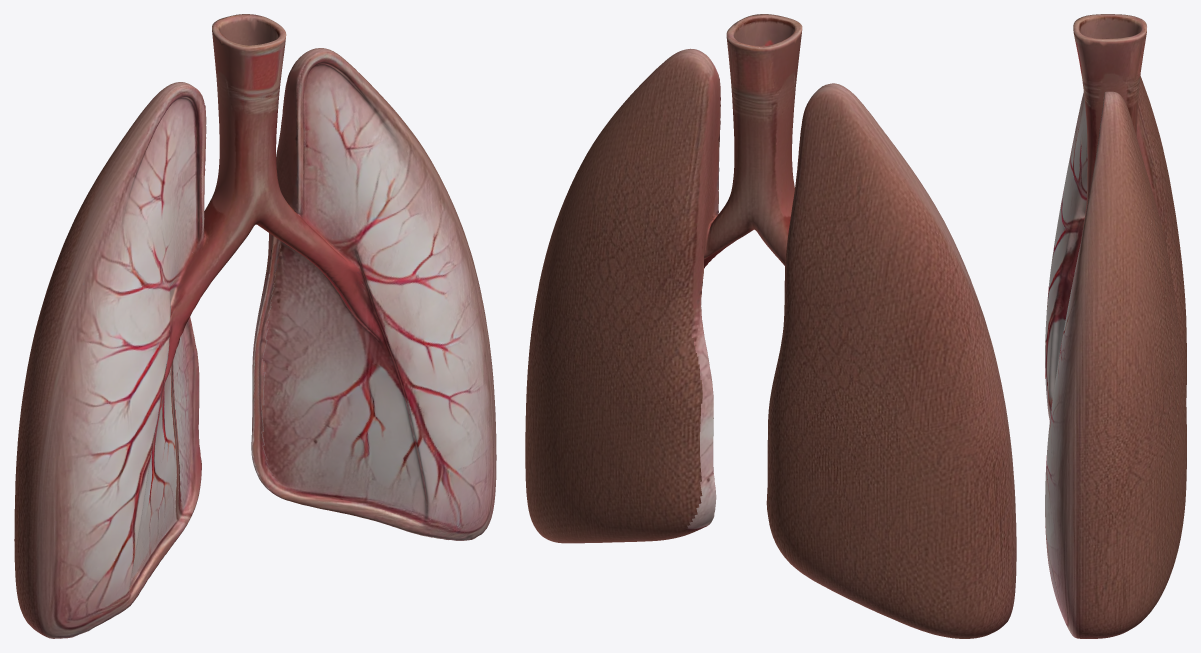
Rendered from vet_v2_organ_horse_lungs.glb.
3 renders of one model, left to right at view 1: azimuth 30°, elevation 25°; view 2: azimuth 150°, elevation 25°; view 3: azimuth 270°, elevation 25°, orthographic. The views are drawn at different scales.
Parts seen in each view (by area): view 1: model; view 2: model; view 3: model.
Part boxes in pixels (x1,y1,x2,y2): model: [14, 14, 496, 638]; model: [525, 14, 1016, 638]; model: [1045, 14, 1186, 638].
Bounding box in the file's own units: 1.7 × 1.9 × 0.4759.
1 material, 1 textured.
